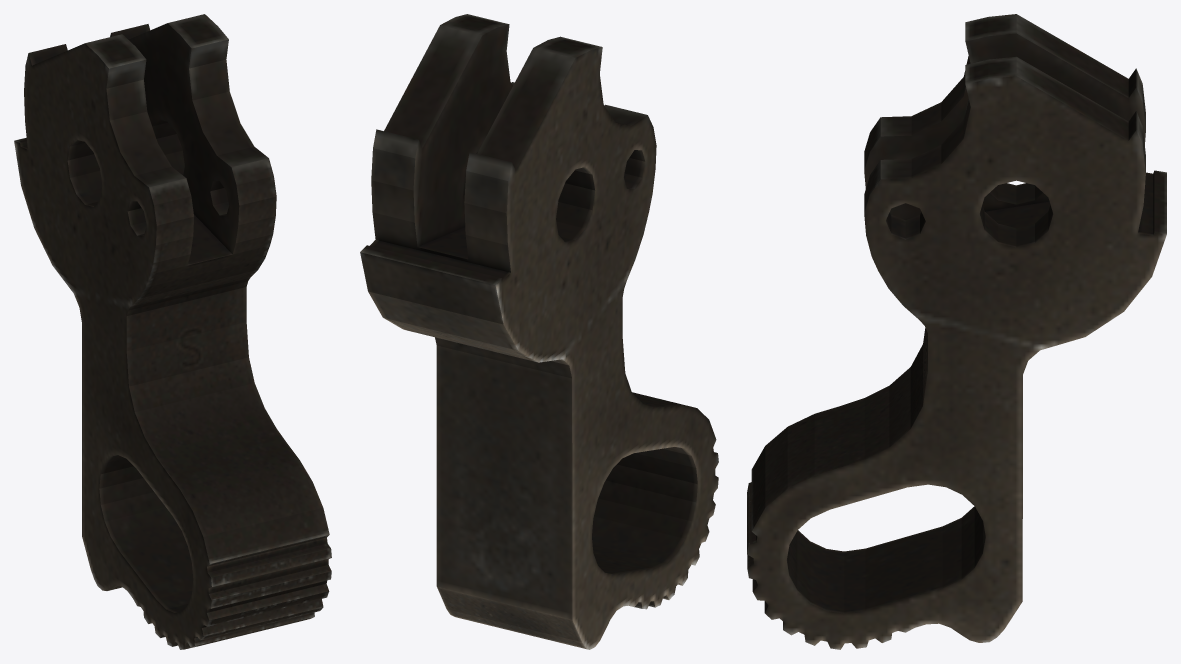
3 renders of one model, left to right at view 1: azimuth 30°, elevation 25°; view 2: azimuth 150°, elevation 25°; view 3: azimuth 270°, elevation 25°, orthographic. The views are drawn at different scales.
Parts seen in each view (by area): view 1: TW_5f3e76d86cda304dcc634054_PZ_Import; view 2: TW_5f3e76d86cda304dcc634054_PZ_Import; view 3: TW_5f3e76d86cda304dcc634054_PZ_Import.
Part boxes in pixels (left/top/right/bottom): TW_5f3e76d86cda304dcc634054_PZ_Import: left=14, top=14, right=331, bottom=649; TW_5f3e76d86cda304dcc634054_PZ_Import: left=360, top=14, right=718, bottom=649; TW_5f3e76d86cda304dcc634054_PZ_Import: left=747, top=14, right=1166, bottom=649.
Size of the model in its own units: 0.00454 by 0.013 by 0.0195.
1 material, 1 textured.
